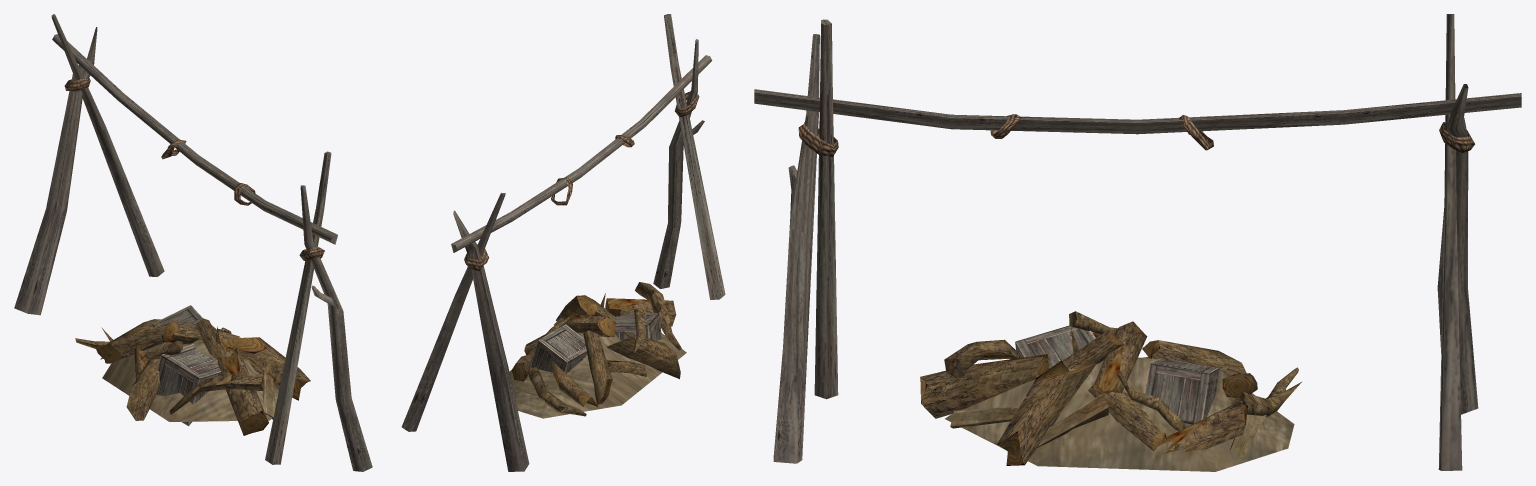
Rendered from pir_m_prp_foo_barbecuefire.fbx.
3 renders of one model, left to right at view 1: azimuth 30°, elevation 25°; view 2: azimuth 150°, elevation 25°; view 3: azimuth 270°, elevation 25°, orthographic. The views are drawn at different scales.
Visible parts, largest first — view 1: pCylinder2, wood_post2, wood_post, ground, spit, wood_post1, crate, gen_log, gen_log3, gen_log2, gen_log4, log1 (+5 smaller); view 2: pCylinder2, ground, wood_post, wood_post2, spit, wood_post1, crate1, gen_log2, gen_log4, log1, crate, gen_log (+7 smaller); view 3: ground, spit, wood_post2, wood_post, wood_post1, pCylinder2, gen_log, gen_log3, crate1, gen_log1, gen_log9, gen_log8 (+8 smaller).
Part boxes in pixels (left/top/right/bottom): pCylinder2: left=14, top=27, right=97, bottom=315; wood_post2: left=300, top=185, right=372, bottom=471; wood_post: left=265, top=151, right=331, bottom=464; ground: left=102, top=339, right=278, bottom=421; spit: left=52, top=34, right=337, bottom=244; wood_post1: left=51, top=14, right=164, bottom=276; crate: left=156, top=344, right=221, bottom=426; gen_log: left=217, top=348, right=268, bottom=435; gen_log3: left=220, top=337, right=310, bottom=400; gen_log2: left=126, top=347, right=160, bottom=420; gen_log4: left=96, top=321, right=171, bottom=363; log1: left=169, top=374, right=263, bottom=414; pCylinder2: left=453, top=210, right=529, bottom=471; ground: left=509, top=307, right=686, bottom=418; wood_post: left=664, top=14, right=725, bottom=299; wood_post2: left=653, top=39, right=704, bottom=288; spit: left=451, top=55, right=712, bottom=252; wood_post1: left=401, top=192, right=505, bottom=431; crate1: left=530, top=324, right=586, bottom=373; gen_log2: left=607, top=331, right=680, bottom=379; gen_log4: left=583, top=330, right=612, bottom=404; log1: left=635, top=282, right=681, bottom=350; crate: left=614, top=313, right=661, bottom=340; gen_log: left=605, top=298, right=676, bottom=326; ground: left=945, top=357, right=1294, bottom=471; spit: left=754, top=89, right=1521, bottom=134; wood_post2: left=773, top=34, right=819, bottom=463; wood_post: left=814, top=19, right=838, bottom=399; wood_post1: left=1438, top=14, right=1462, bottom=470; pCylinder2: left=1437, top=84, right=1478, bottom=414; gen_log: left=920, top=354, right=1049, bottom=418; gen_log3: left=997, top=361, right=1097, bottom=465; crate1: left=1143, top=358, right=1219, bottom=426; gen_log1: left=1164, top=402, right=1247, bottom=453; gen_log9: left=1093, top=321, right=1147, bottom=393; gen_log8: left=1088, top=383, right=1166, bottom=451.
Bounding box in the file's own units: 402 × 716 × 1155.
1 material, 1 textured.
